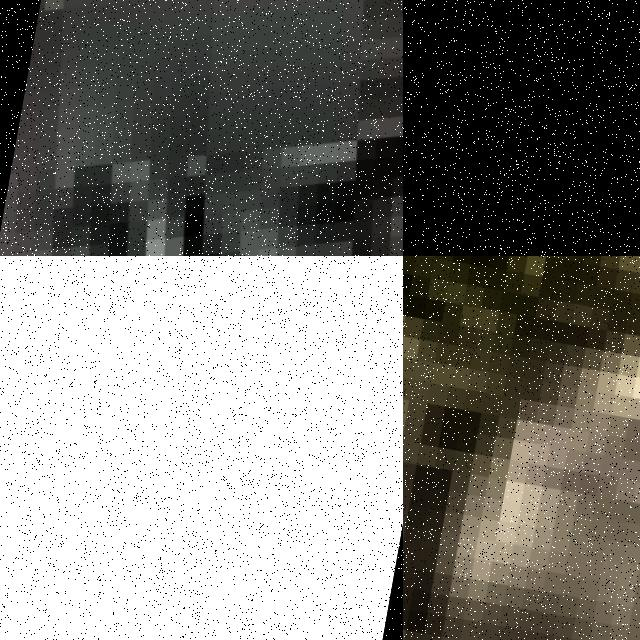drone: (0, 0, 403, 256)
